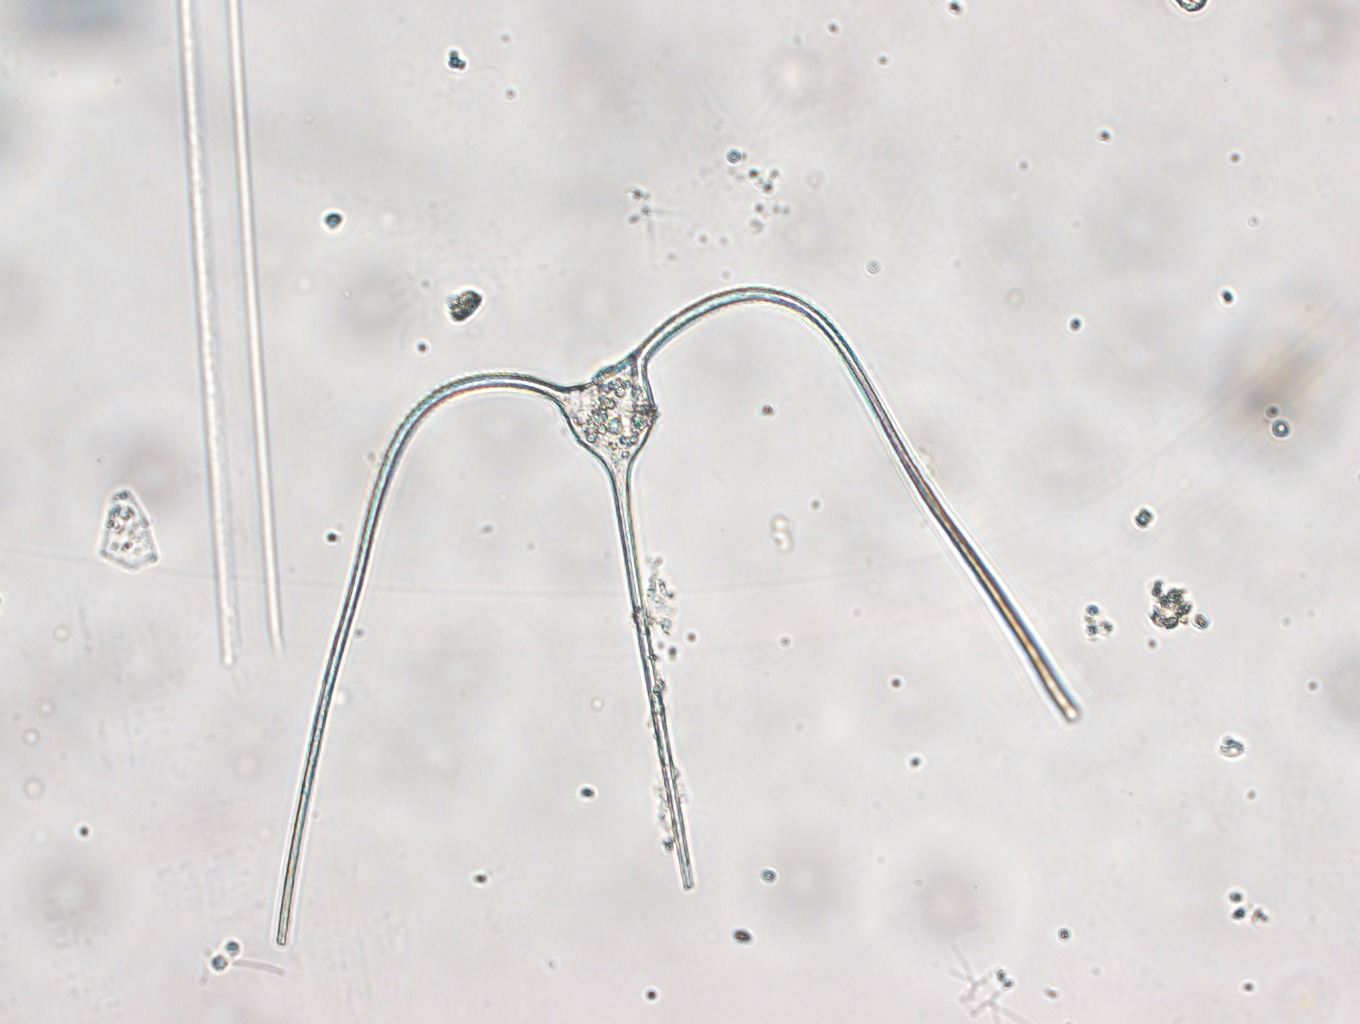ceratium trichoceros: (276, 286, 1084, 950)
